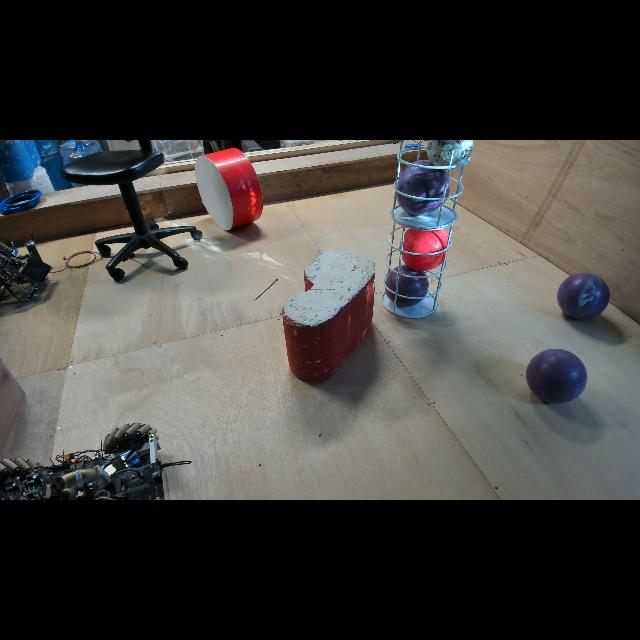P: (526, 348, 588, 404), (395, 159, 451, 217), (556, 272, 612, 321), (384, 264, 430, 308)
R: (399, 225, 451, 272)
S: (378, 219, 458, 321), (388, 140, 472, 232)
